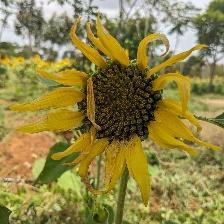sunflower: (6, 10, 224, 209)
